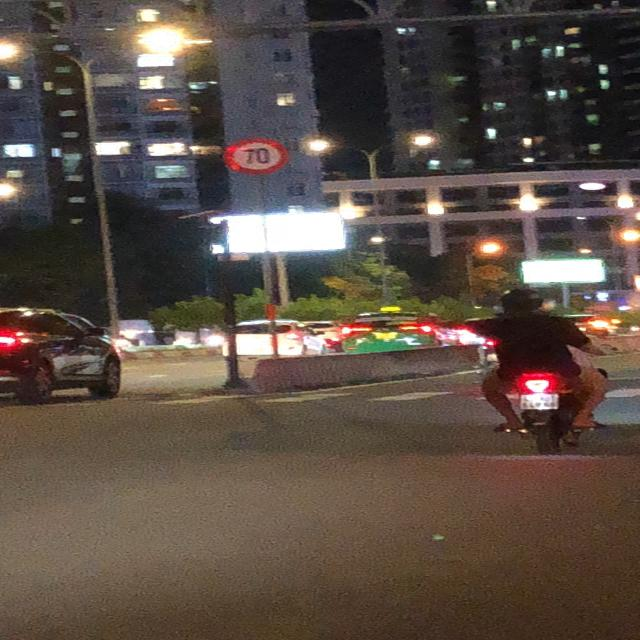Bien bao toc do toi da cho phep: (221, 135, 296, 174)
